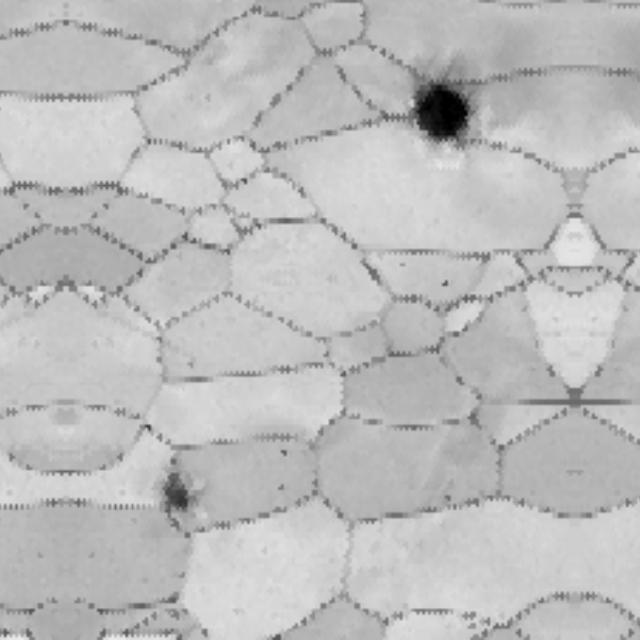good_void: (403, 62, 482, 158), (159, 451, 197, 515), (438, 275, 451, 289), (440, 491, 453, 502), (278, 446, 290, 457)
